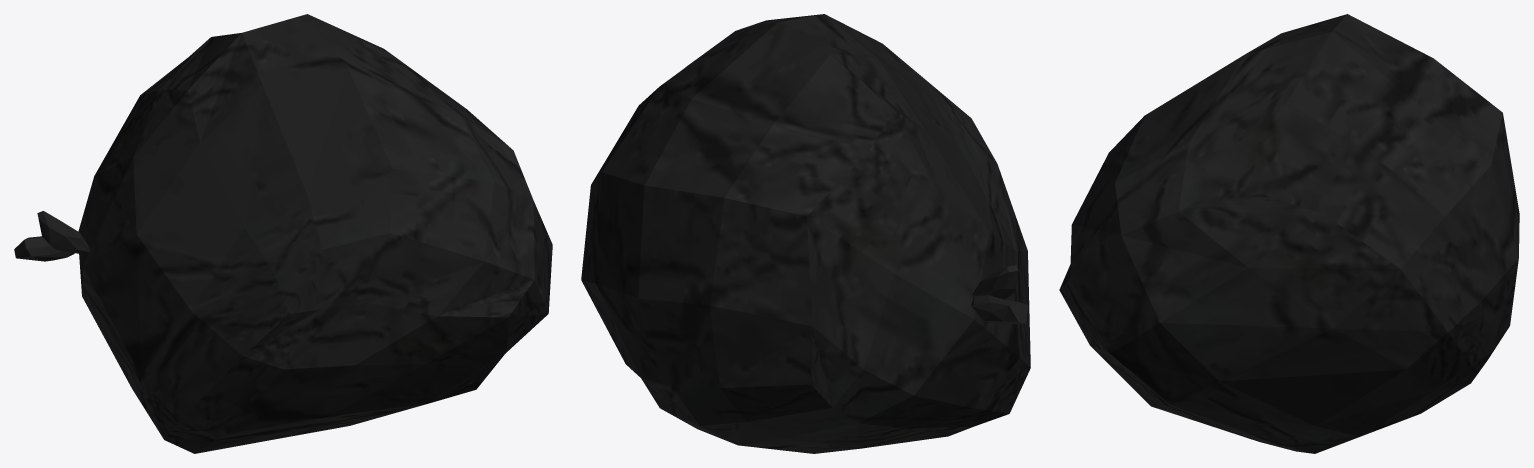
File: strProp_27.glb
3 views of the same model, side by side, from view 1: azimuth 30°, elevation 25°; view 2: azimuth 150°, elevation 25°; view 3: azimuth 270°, elevation 25° (orthographic). The views are drawn at different scales.
Visible parts, largest first — view 1: geometry_0; view 2: geometry_0; view 3: geometry_0.
Part boxes in pixels (x1,y1,x2,y2): geometry_0: [14, 14, 552, 453]; geometry_0: [581, 14, 1030, 453]; geometry_0: [1059, 14, 1519, 453].
Size of the model in its own units: 0.6039 by 0.5439 by 0.5594.
1 material, 1 textured.
